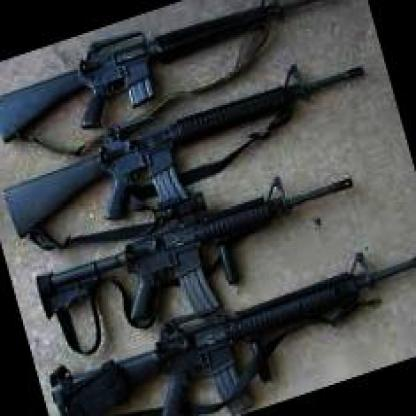rifle: (13, 147, 408, 364), (0, 42, 384, 258), (55, 241, 416, 416), (0, 0, 351, 154)
